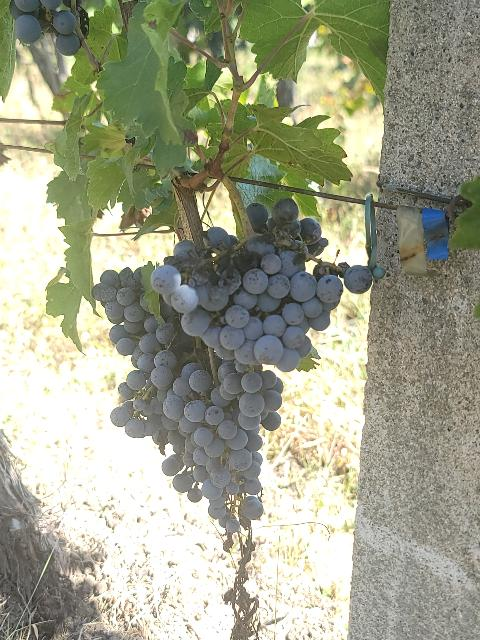grapes: (151, 199, 372, 371), (162, 362, 282, 532), (91, 269, 178, 446)
